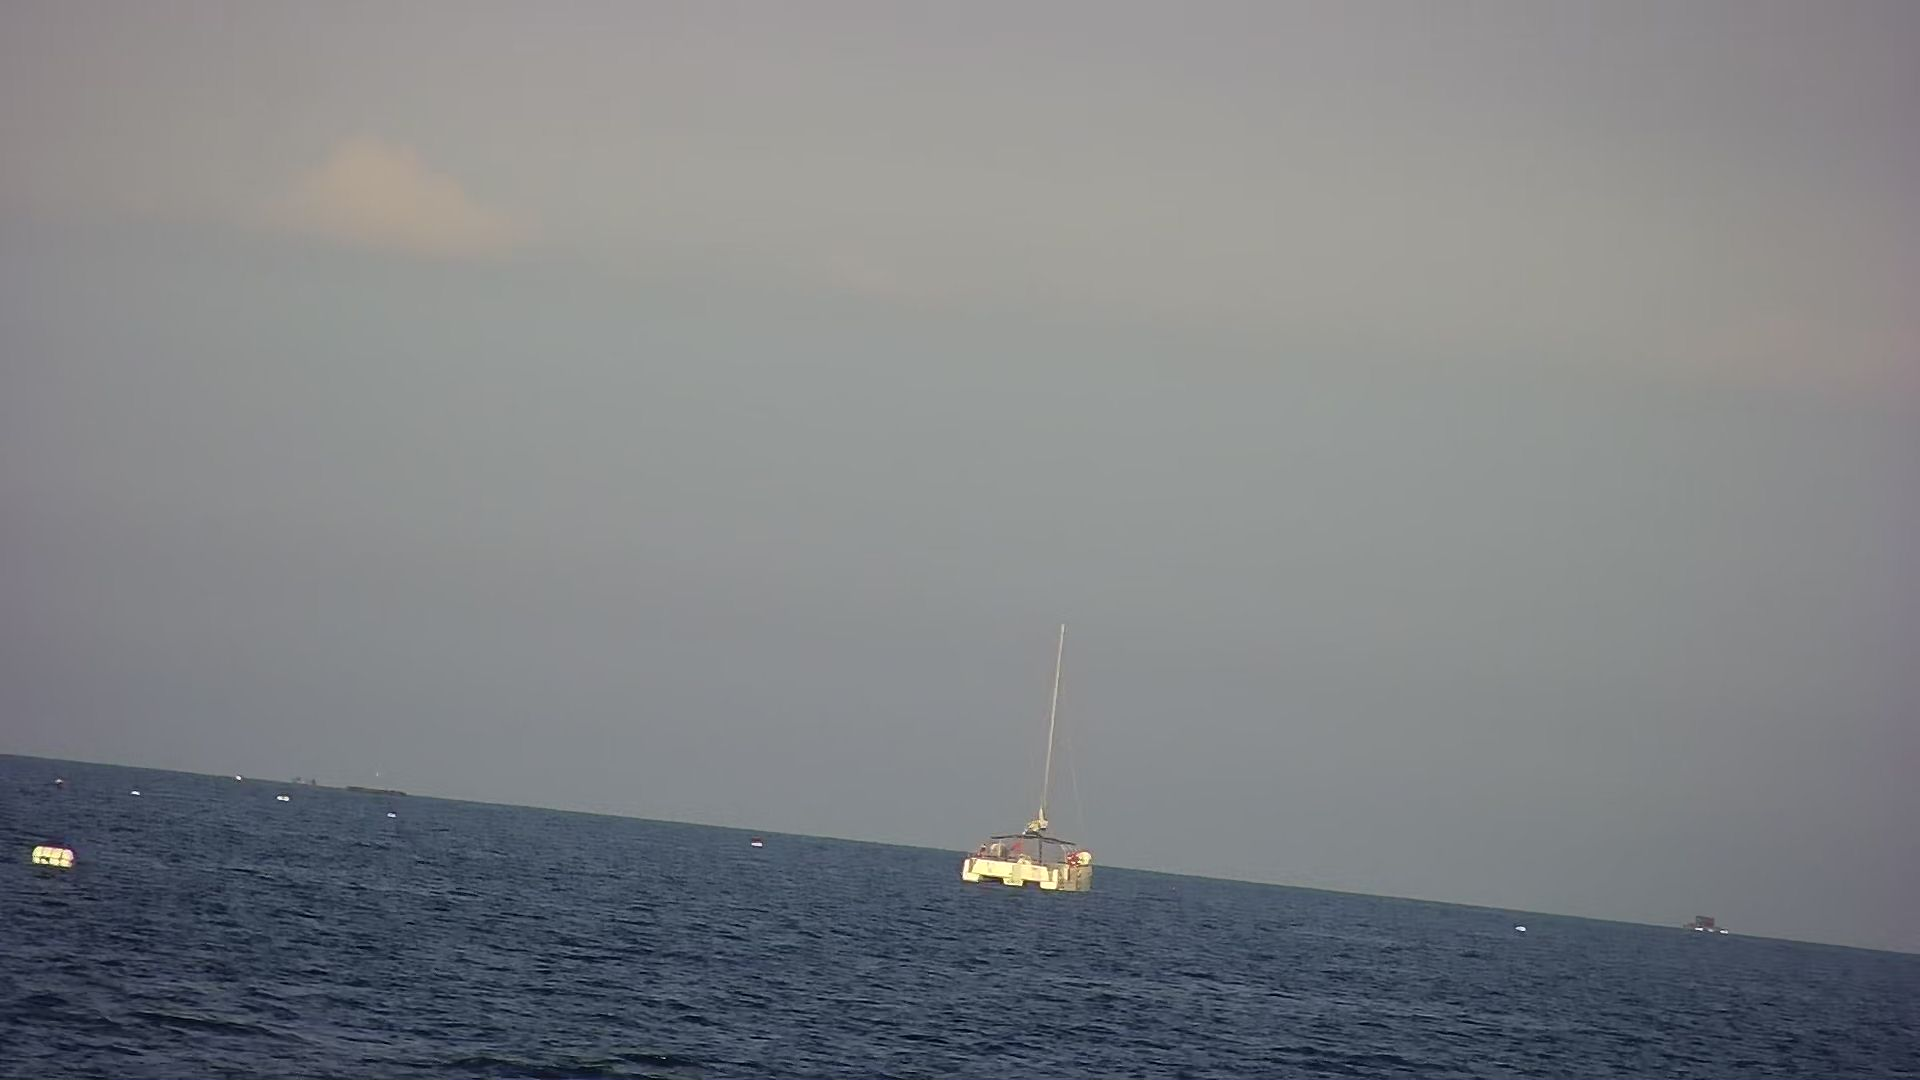platform: (953, 615, 1112, 906), (1683, 897, 1742, 951)
rubbish: (29, 837, 76, 877)
